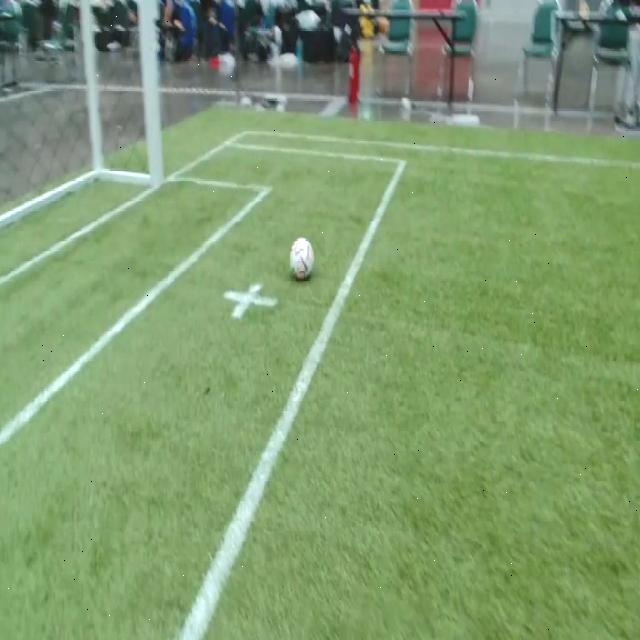ball: (290, 237, 313, 279)
goalpost: (144, 133, 166, 194)
